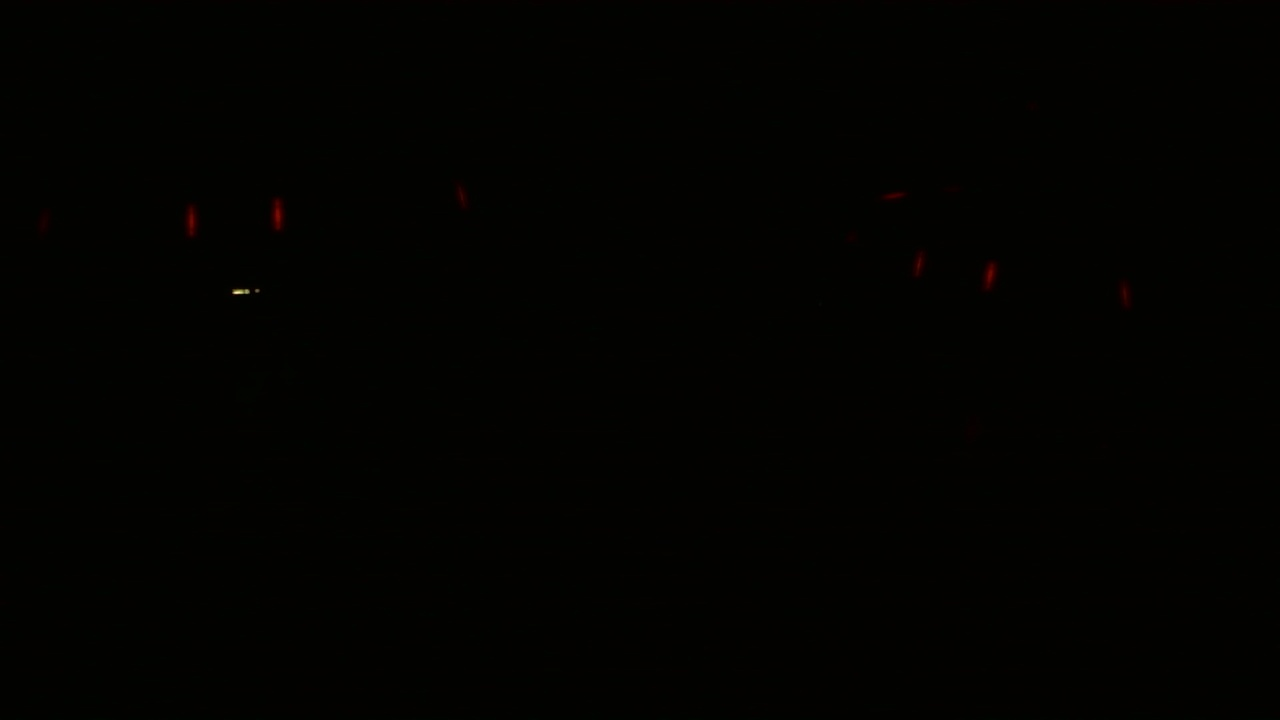pair1: (183, 199, 281, 242), (904, 253, 998, 286)
